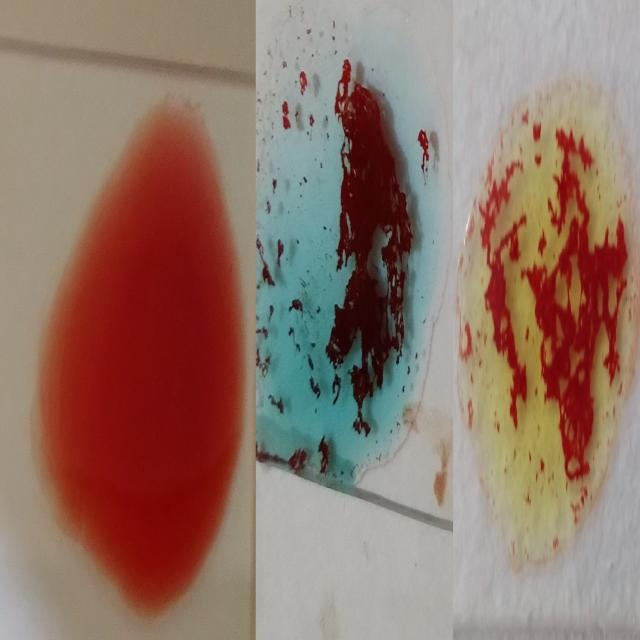A: (258, 7, 434, 481)
B: (458, 88, 626, 569)
